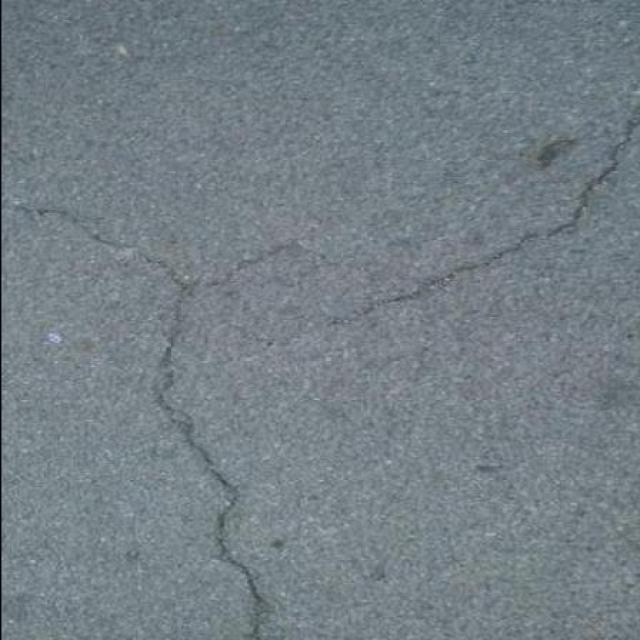Crack: (4, 202, 335, 639), (322, 113, 640, 322)
